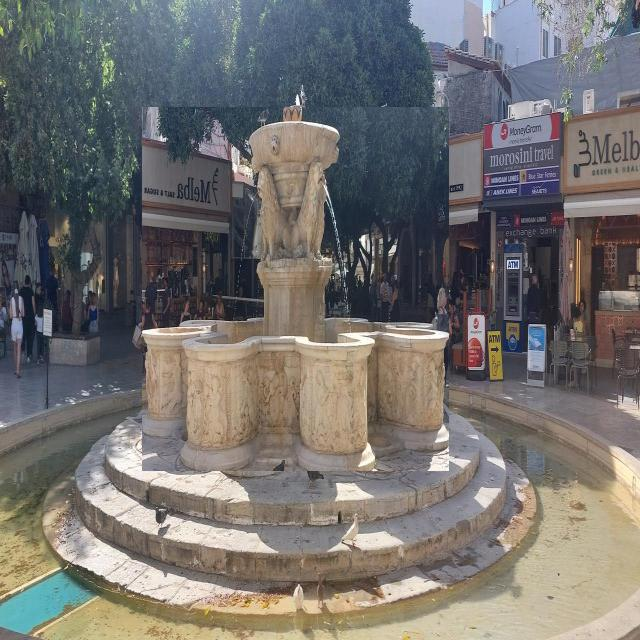Liontaria: (143, 108, 450, 472)
